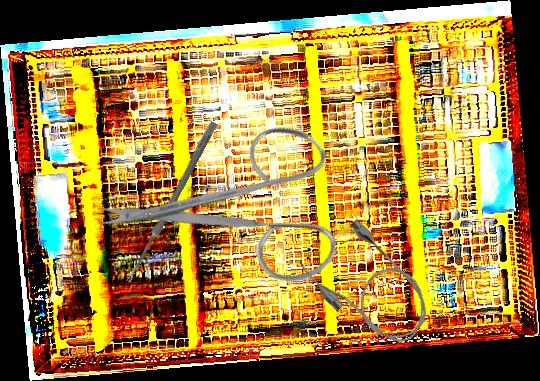Cannula: (293, 211, 445, 363)
Iris Scissors: (89, 70, 383, 361)
Surgical Spoon: (124, 120, 218, 285)
